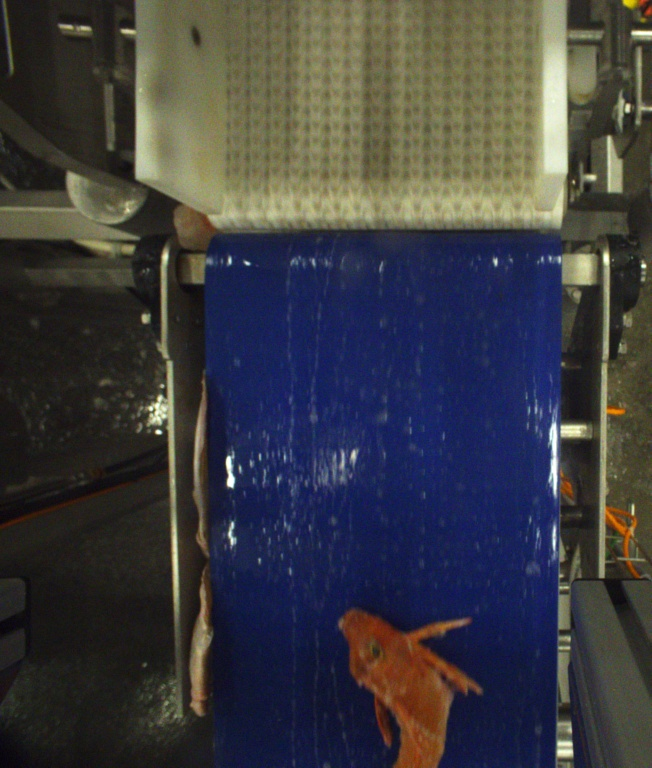GUU: (340, 604, 482, 768)
